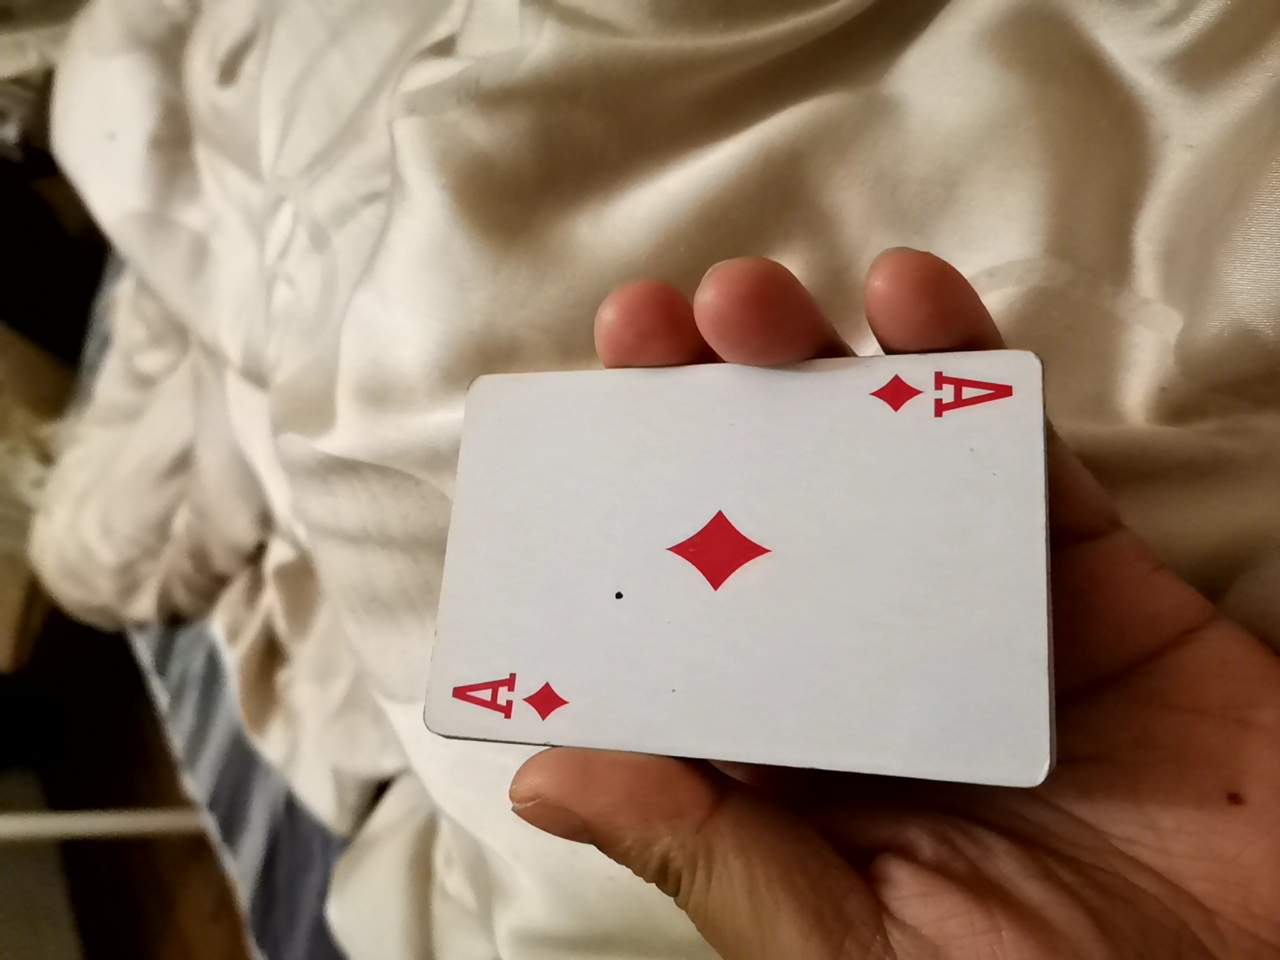fk a: (413, 353, 1059, 773)
